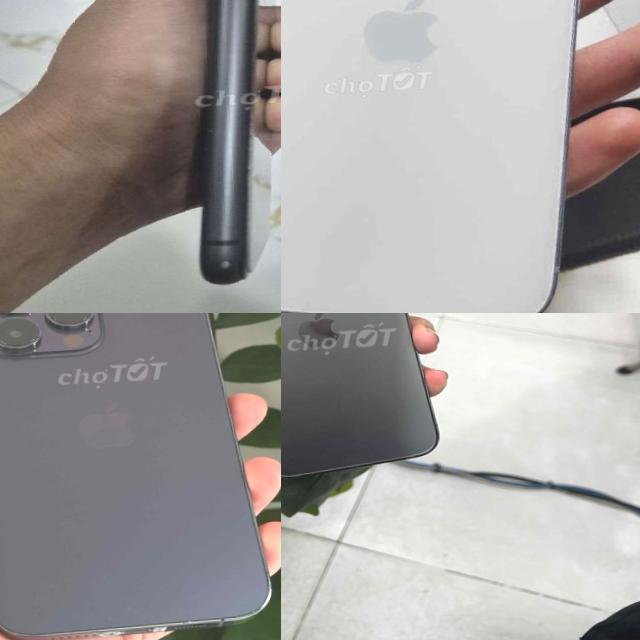physical_damage: (179, 614, 199, 626)
scratch: (192, 107, 229, 172), (201, 245, 247, 278), (104, 600, 140, 622)
